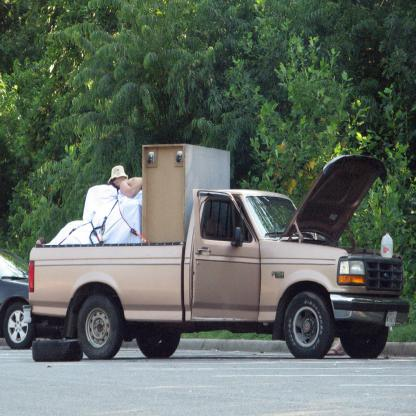Truck: (22, 154, 410, 359)
